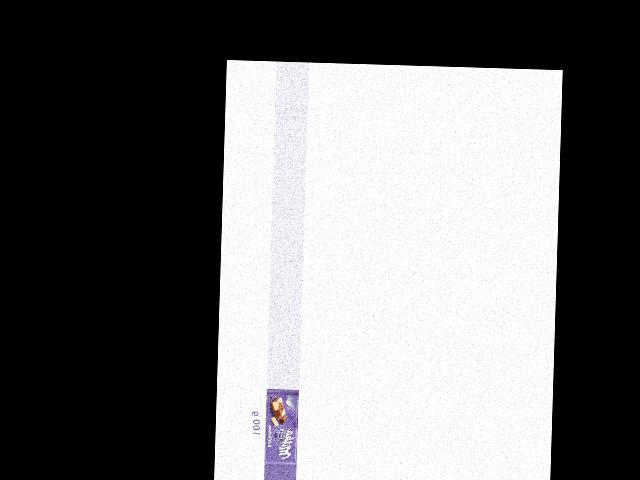chocolate: (262, 388, 299, 467)
